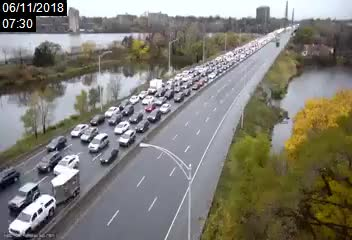congestion: (1, 126, 108, 239), (67, 105, 145, 149), (127, 85, 184, 118), (163, 69, 212, 90), (201, 59, 232, 74), (220, 51, 247, 61)
personal_car: (10, 197, 56, 240), (10, 184, 40, 210), (54, 155, 81, 175), (36, 152, 59, 173), (1, 166, 20, 190), (90, 134, 108, 153), (101, 147, 118, 165), (47, 135, 66, 151), (81, 127, 98, 142), (121, 130, 135, 146), (72, 123, 88, 137), (148, 109, 162, 123), (135, 120, 149, 134), (114, 121, 128, 134), (91, 114, 104, 126), (122, 105, 135, 116), (106, 106, 119, 117), (108, 113, 121, 124), (160, 103, 172, 114), (130, 112, 142, 123), (119, 98, 129, 110), (173, 92, 184, 102), (129, 94, 139, 105), (142, 95, 154, 104), (156, 96, 166, 106), (145, 101, 155, 111), (165, 88, 174, 98), (139, 89, 147, 99)
truck: (148, 79, 162, 94)
